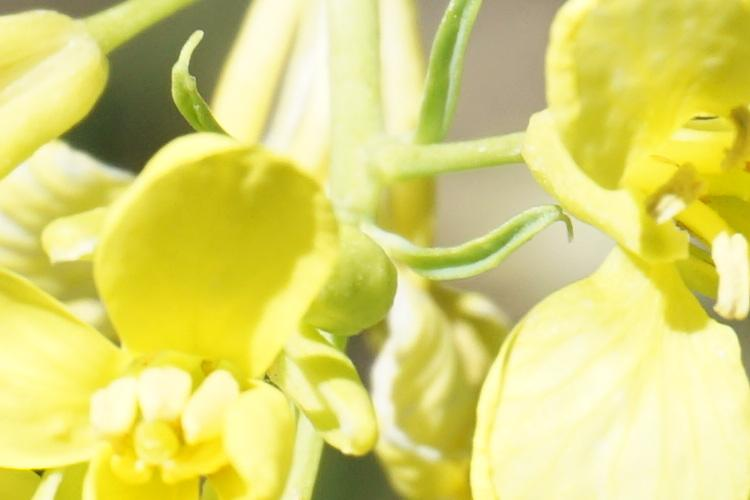yellow: (66, 149, 366, 500), (531, 27, 739, 487)
